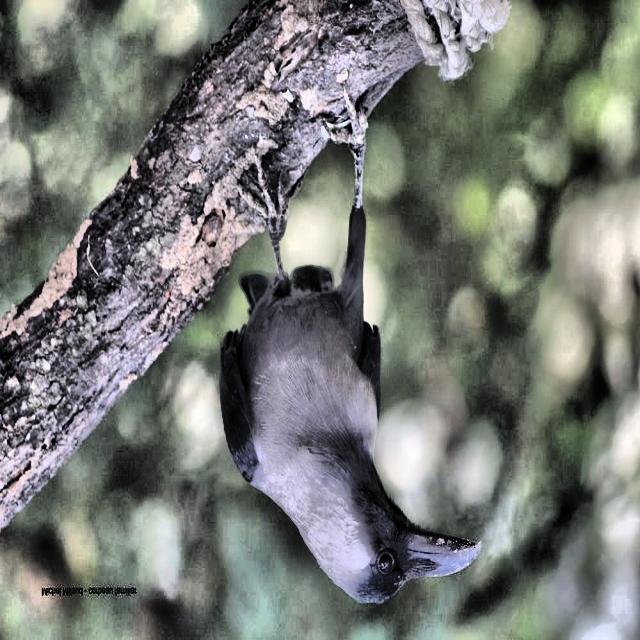crow: (194, 94, 493, 623)
